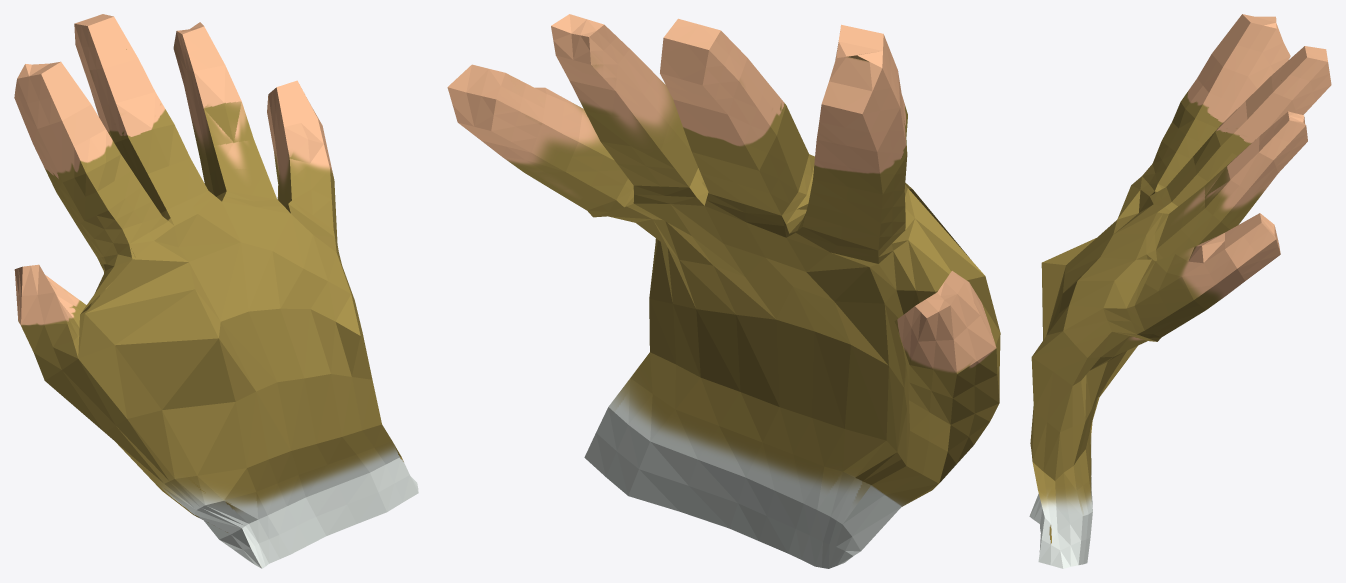
The model's file is flexion0023.obj.
3 renders of one model, left to right at view 1: azimuth 30°, elevation 25°; view 2: azimuth 150°, elevation 25°; view 3: azimuth 270°, elevation 25°, orthographic. The views are drawn at different scales.
Parts seen in each view (by area): view 1: Hand; view 2: Hand; view 3: Hand.
Boxes of the visible parts, x1,y1,x2,y2 form: Hand: (14, 14, 418, 568); Hand: (447, 14, 1000, 568); Hand: (1029, 14, 1331, 568).
Bounding box in the file's own units: 3.27 × 4.26 × 2.55.
